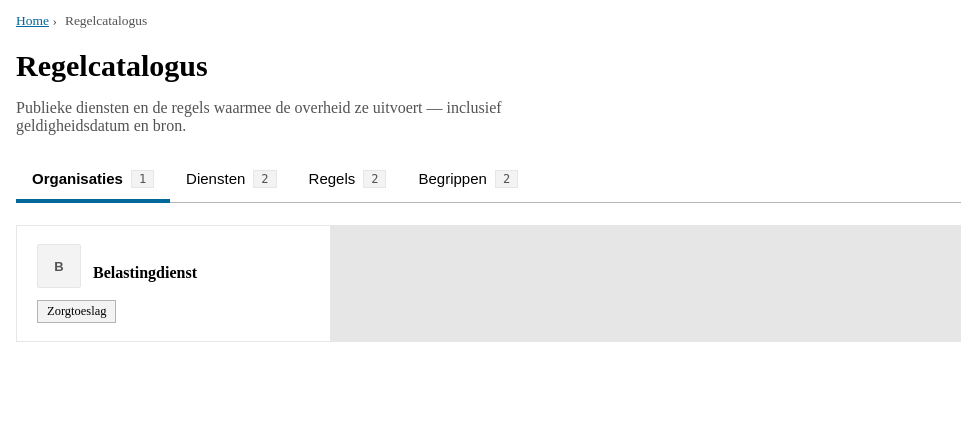
Test: Regelcatalogus › Concepts tab: the selected dienst filter survives navigating to another tab and back
The width and height of the screenshot is (978, 444).
Click the tab "Begrippen 2" at (468, 181), box [402,159,534,203]
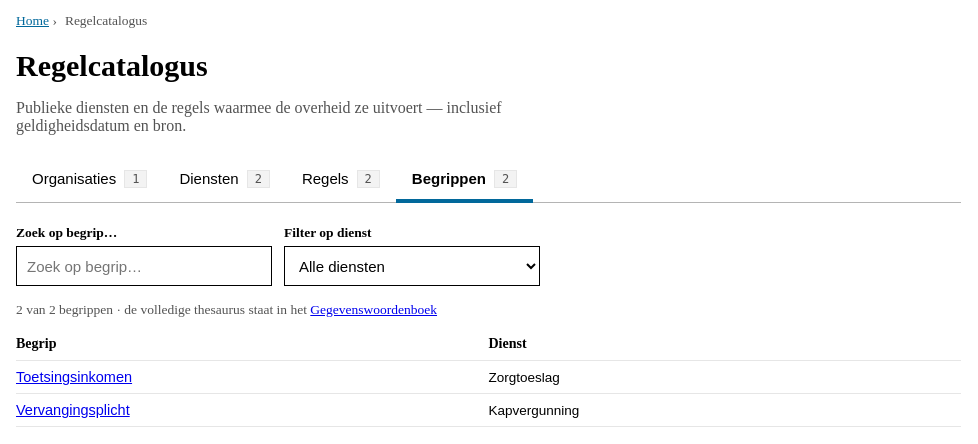
Select "Kapvergunning" in the dropdown labelled "Filter op dienst" at (412, 266), box [284,246,540,286]
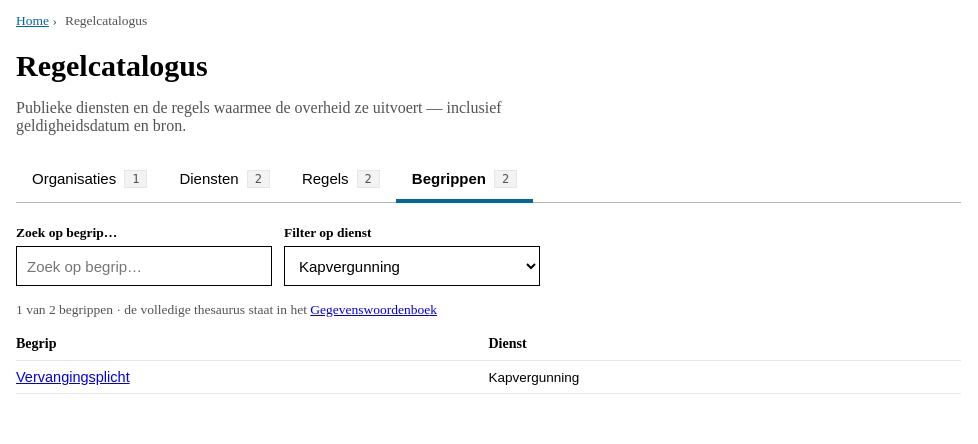
Check: the link "Toetsingsinkomen" is gone
Navigate away to Regels, then back to Begrippen
Click the tab "Regels 2" at (341, 181), box [286,159,396,203]
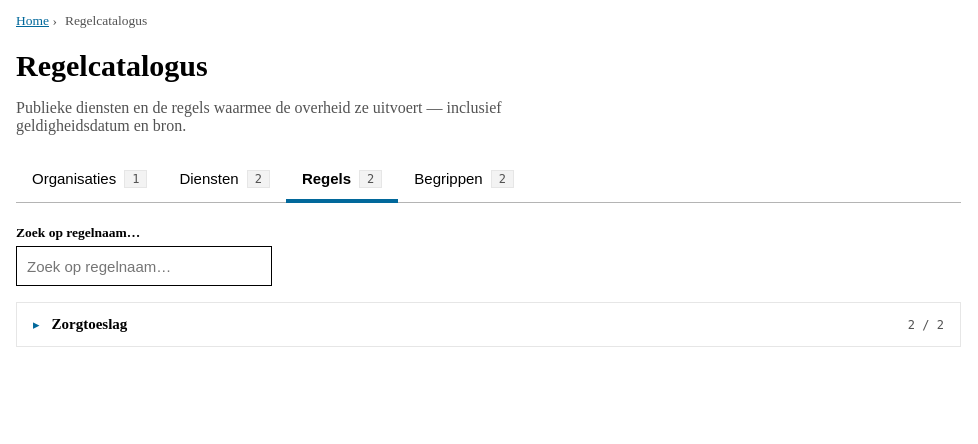
Click the tab "Begrippen 2" at (464, 181), box [398,159,530,203]
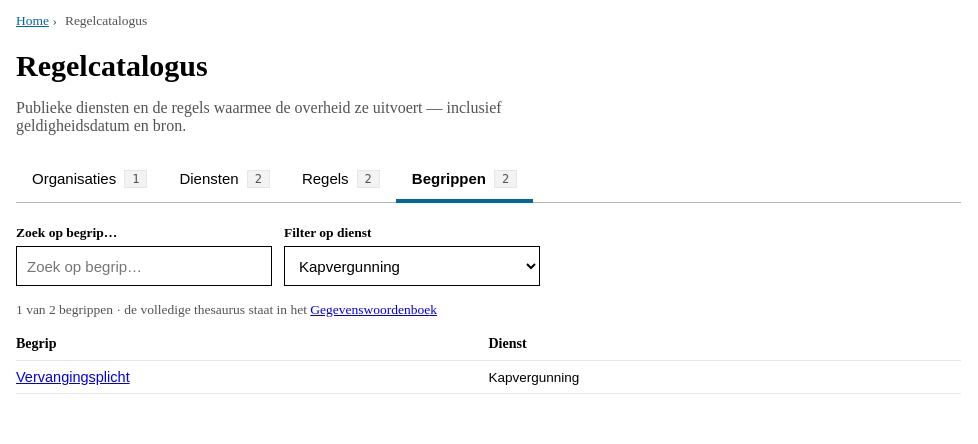
Check: the link "Toetsingsinkomen" is not shown
Check: the dropdown labelled "Filter op dienst" shows "Kapvergunning", box [284,246,540,286]
Check: the link "Vervangingsplicht" is shown, box [16,369,130,385]
